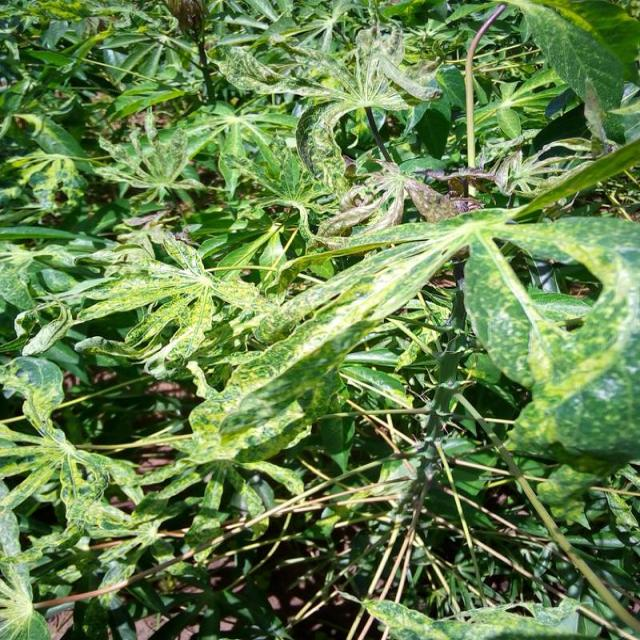cassava leaf: (186, 206, 509, 469), (462, 212, 640, 475)
